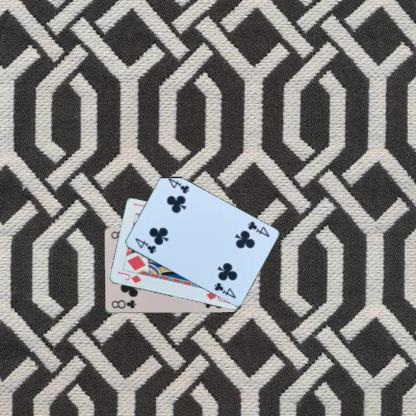4c: (132, 235, 157, 255), (245, 218, 270, 238)
8c: (109, 298, 137, 310)
Jd: (115, 269, 142, 284)
